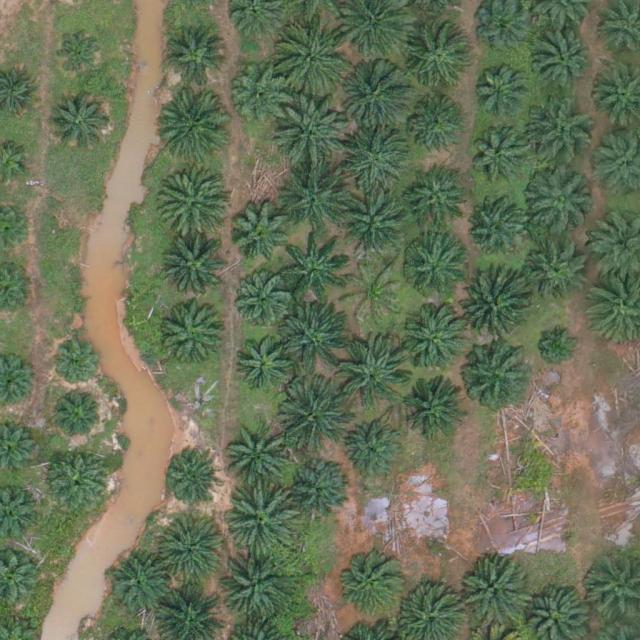Dead: (345, 259, 407, 322)
Healthy: (280, 382, 351, 453), (156, 515, 227, 586), (157, 166, 228, 237), (460, 272, 530, 343), (402, 304, 472, 375), (341, 123, 411, 194), (341, 194, 411, 265), (337, 547, 407, 618), (281, 303, 352, 373), (279, 232, 349, 303), (282, 160, 352, 231), (275, 99, 345, 170), (227, 415, 297, 486), (220, 555, 290, 626), (162, 235, 232, 306), (160, 89, 230, 160), (346, 59, 416, 130), (459, 559, 529, 629), (527, 94, 597, 164), (523, 167, 593, 237), (461, 345, 531, 415), (339, 338, 409, 408), (229, 487, 299, 557), (404, 28, 474, 98), (280, 25, 350, 95), (464, 199, 527, 262), (405, 172, 468, 235), (230, 270, 293, 333), (109, 553, 172, 616), (529, 241, 591, 304), (401, 235, 463, 298), (342, 424, 405, 486), (287, 458, 349, 521), (233, 330, 295, 393), (164, 303, 226, 366), (48, 93, 110, 156), (47, 448, 109, 511), (532, 30, 595, 92), (230, 64, 293, 126), (165, 24, 227, 87), (403, 378, 465, 440), (229, 203, 291, 265), (54, 26, 109, 82), (471, 128, 526, 183), (407, 99, 462, 154), (164, 449, 219, 504), (473, 64, 528, 119), (51, 388, 105, 443)
Small: (53, 342, 100, 389), (535, 322, 582, 369)
